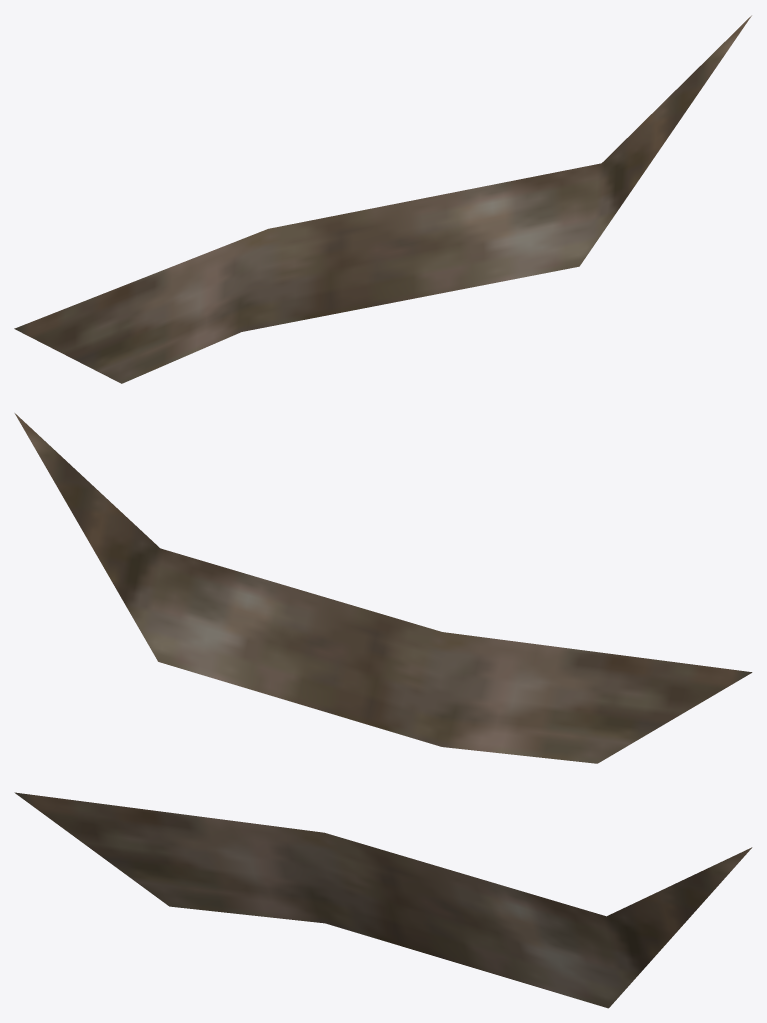
File: EKH_THRONE_PS_TH_ROCK_SEEM_01.fbx
3 views of the same model, one above another, from view 1: azimuth 30°, elevation 25°; view 2: azimuth 150°, elevation 25°; view 3: azimuth 330°, elevation 25° (orthographic). The views are drawn at different scales.
Parts seen in each view (by area): view 1: EKH_THRONE_PS_TH_ROCK_SEEM_01; view 2: EKH_THRONE_PS_TH_ROCK_SEEM_01; view 3: EKH_THRONE_PS_TH_ROCK_SEEM_01.
Part boxes in pixels (x1=…): EKH_THRONE_PS_TH_ROCK_SEEM_01: x1=14, y1=15, x2=751, y2=383; EKH_THRONE_PS_TH_ROCK_SEEM_01: x1=14, y1=413, x2=752, y2=763; EKH_THRONE_PS_TH_ROCK_SEEM_01: x1=14, y1=792, x2=752, y2=1008.
Size of the model in its own units: 19371 by 5322 by 2297.
1 material, 1 textured.
